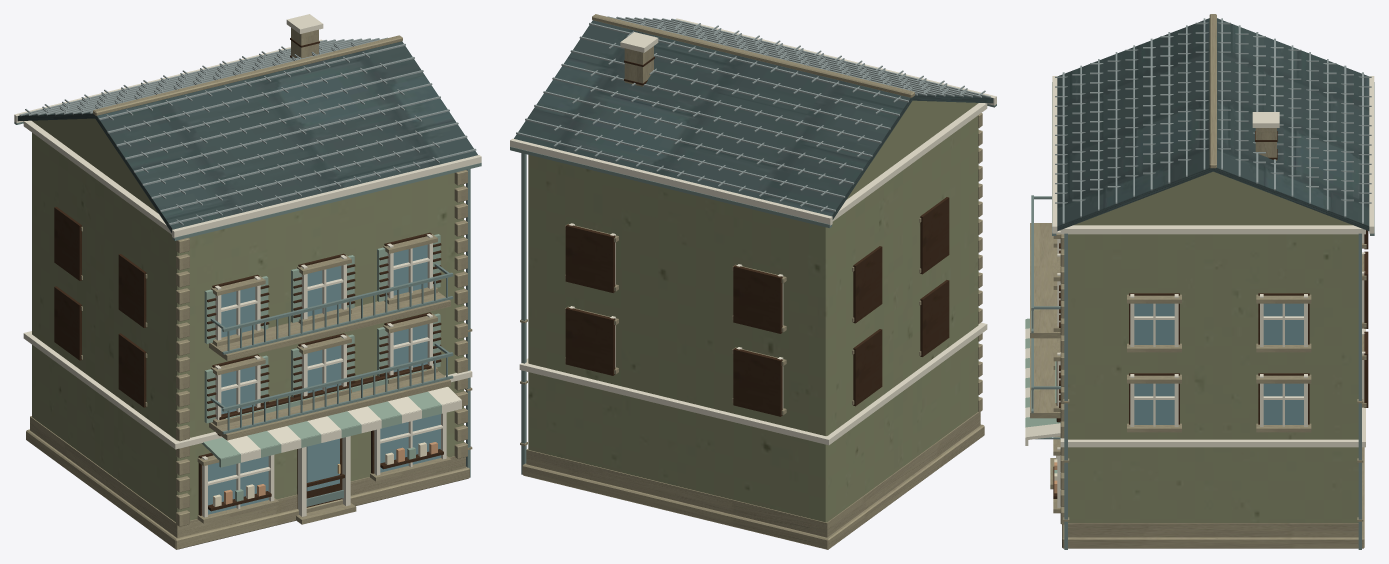
File: north_homes_e.glb
3 renders of one model, left to right at view 1: azimuth 30°, elevation 25°; view 2: azimuth 150°, elevation 25°; view 3: azimuth 270°, elevation 25°, orthographic. The views are drawn at different scales.
Parts seen in each view (by area): view 1: north_homes_e / north_homes_e painted plaster, north_homes_e / slate roof, north_homes_e / limestone, north_homes_e / ivory joinery, north_homes_e / slate tile edge, north_homes_e / oiled walnut, north_homes_e / blue grey opaque glass, north_homes_e / aged dark bronze, north_homes_e / sage canopy; view 2: north_homes_e / north_homes_e painted plaster, north_homes_e / slate roof, north_homes_e / oiled walnut, north_homes_e / limestone, north_homes_e / slate tile edge, north_homes_e / ivory joinery, north_homes_e / aged dark bronze; view 3: north_homes_e / north_homes_e painted plaster, north_homes_e / slate roof, north_homes_e / limestone, north_homes_e / ivory joinery, north_homes_e / slate tile edge, north_homes_e / blue grey opaque glass, north_homes_e / aged dark bronze, north_homes_e / oiled walnut, north_homes_e / sage canopy.
Boxes of the visible parts, left/top/right/bottom form: north_homes_e / north_homes_e painted plaster: left=32, top=118, right=463, bottom=522; north_homes_e / slate roof: left=17, top=41, right=477, bottom=232; north_homes_e / limestone: left=26, top=28, right=472, bottom=549; north_homes_e / ivory joinery: left=14, top=14, right=481, bottom=517; north_homes_e / slate tile edge: left=19, top=37, right=476, bottom=225; north_homes_e / oiled walnut: left=54, top=38, right=443, bottom=515; north_homes_e / blue grey opaque glass: left=208, top=244, right=440, bottom=514; north_homes_e / aged dark bronze: left=14, top=121, right=481, bottom=506; north_homes_e / sage canopy: left=201, top=234, right=441, bottom=501; north_homes_e / north_homes_e painted plaster: left=528, top=100, right=978, bottom=522; north_homes_e / slate roof: left=514, top=20, right=993, bottom=219; north_homes_e / oiled walnut: left=565, top=56, right=949, bottom=416; north_homes_e / limestone: left=520, top=14, right=984, bottom=549; north_homes_e / slate tile edge: left=516, top=16, right=990, bottom=211; north_homes_e / ivory joinery: left=510, top=18, right=996, bottom=445; north_homes_e / aged dark bronze: left=510, top=104, right=996, bottom=474; north_homes_e / north_homes_e painted plaster: left=1068, top=171, right=1358, bottom=522; north_homes_e / slate roof: left=1057, top=18, right=1369, bottom=231; north_homes_e / limestone: left=1030, top=14, right=1366, bottom=548; north_homes_e / ivory joinery: left=1025, top=76, right=1374, bottom=507; north_homes_e / slate tile edge: left=1055, top=18, right=1371, bottom=223; north_homes_e / blue grey opaque glass: left=1134, top=303, right=1303, bottom=424; north_homes_e / aged dark bronze: left=1031, top=82, right=1374, bottom=549; north_homes_e / oiled walnut: left=1053, top=131, right=1368, bottom=498; north_homes_e / sage canopy: left=1025, top=318, right=1060, bottom=473.
Bounding box in the file's own units: 10.93 × 13.52 × 10.69.
12 materials, 4 textured.
